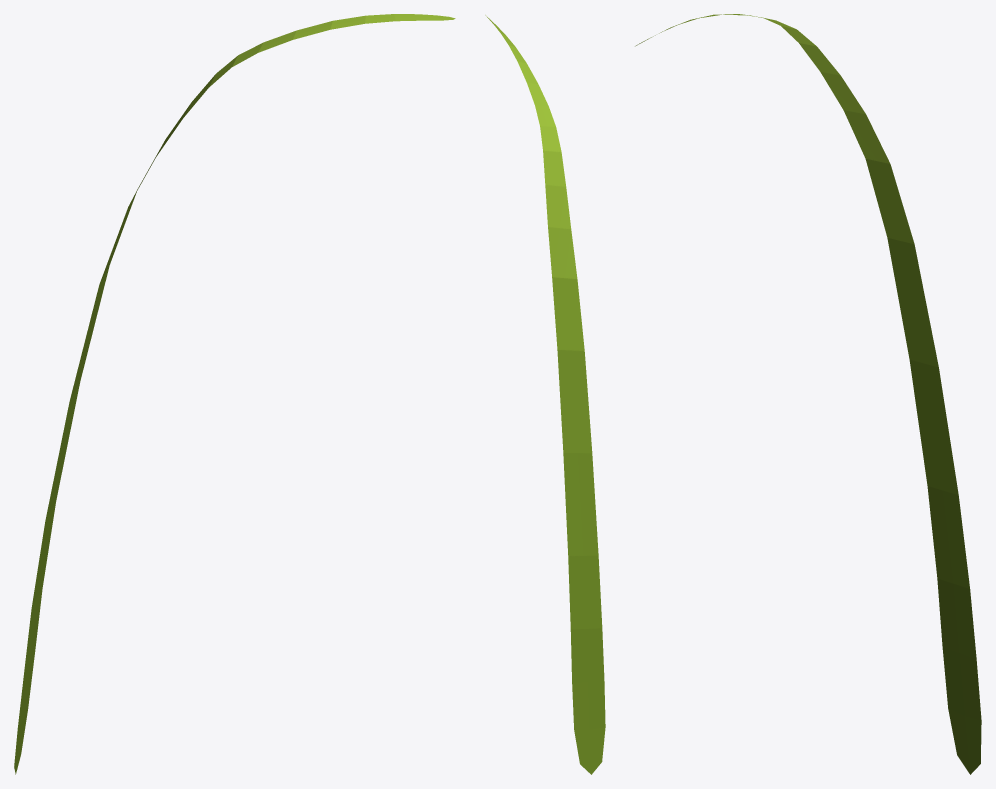
The model's file is gras2.fbx.
3 renders of one model, left to right at view 1: azimuth 30°, elevation 25°; view 2: azimuth 150°, elevation 25°; view 3: azimuth 270°, elevation 25°, orthographic. The views are drawn at different scales.
Visible parts, largest first — view 1: Trava1; view 2: Trava1; view 3: Trava1.
Part boxes in pixels (box(x1,y1,x2,y2)): Trava1: box(14, 14, 455, 774); Trava1: box(485, 15, 605, 774); Trava1: box(635, 14, 981, 774).
Size of the model in its own units: 414 by 1064 by 378.
